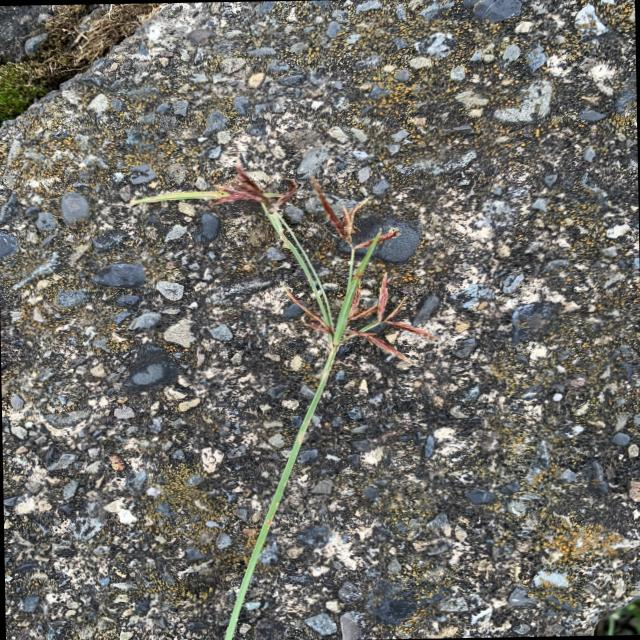cyperus: (196, 144, 458, 380)
